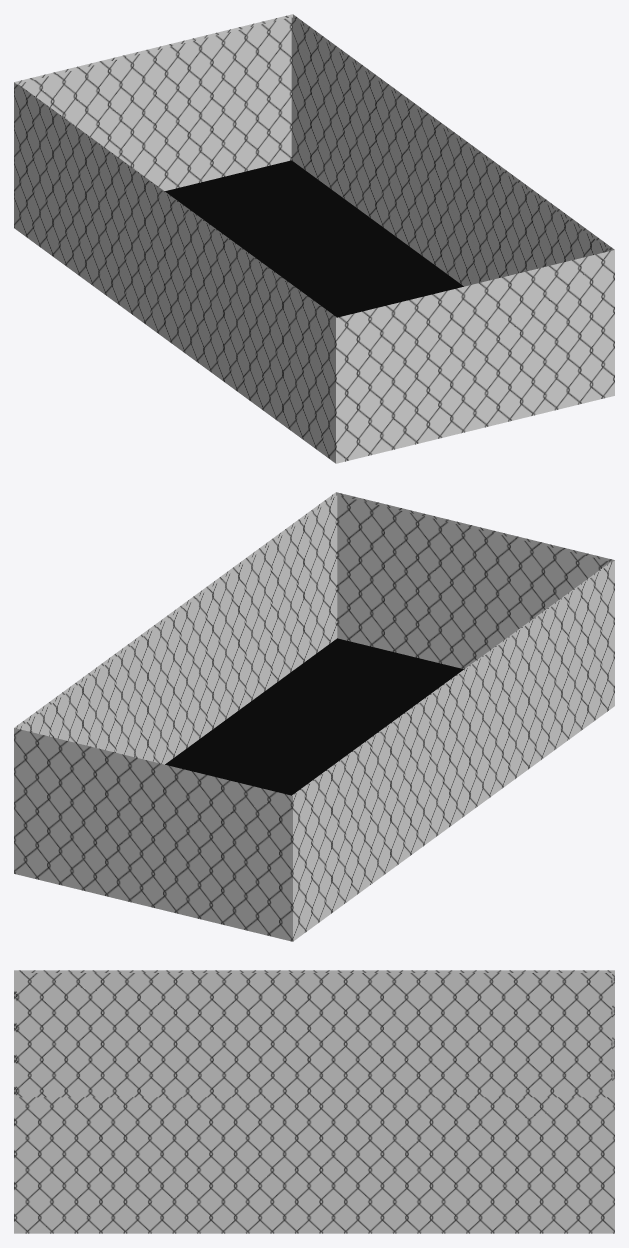
The model's file is trolley.dae.
The picture shows the model from 3 angles, top to bottom: view 1: azimuth 30°, elevation 25°; view 2: azimuth 150°, elevation 25°; view 3: azimuth 270°, elevation 25°; orthographic projection. The views are drawn at different scales.
Visible parts, largest first — view 1: Cube, Cube.001; view 2: Cube, Cube.001; view 3: Cube, Cube.001.
Part boxes in pixels (box(x1,y1,x2,y2)): Cube: box(14, 14, 614, 463); Cube.001: box(18, 17, 610, 317); Cube: box(14, 492, 614, 941); Cube.001: box(18, 495, 610, 795); Cube: box(14, 970, 614, 1233); Cube.001: box(16, 973, 612, 1097).
Size of the model in its own units: 0.62 by 1.24 by 0.31.
2 materials, 1 textured.
